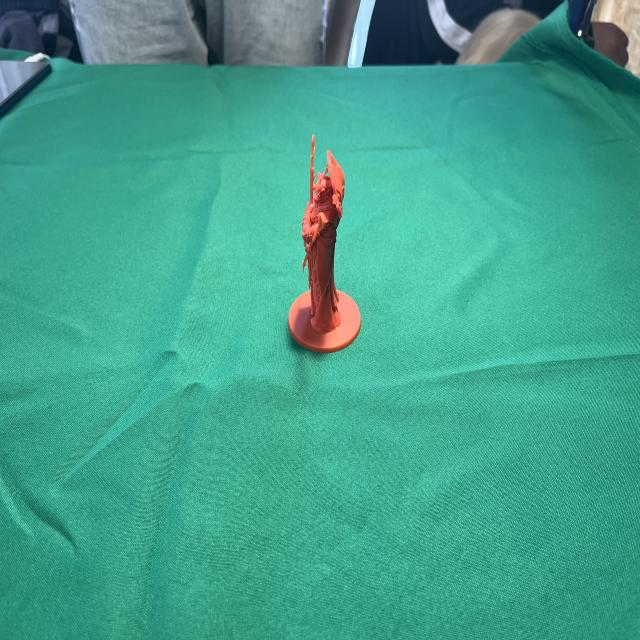amon: (288, 133, 364, 356)
